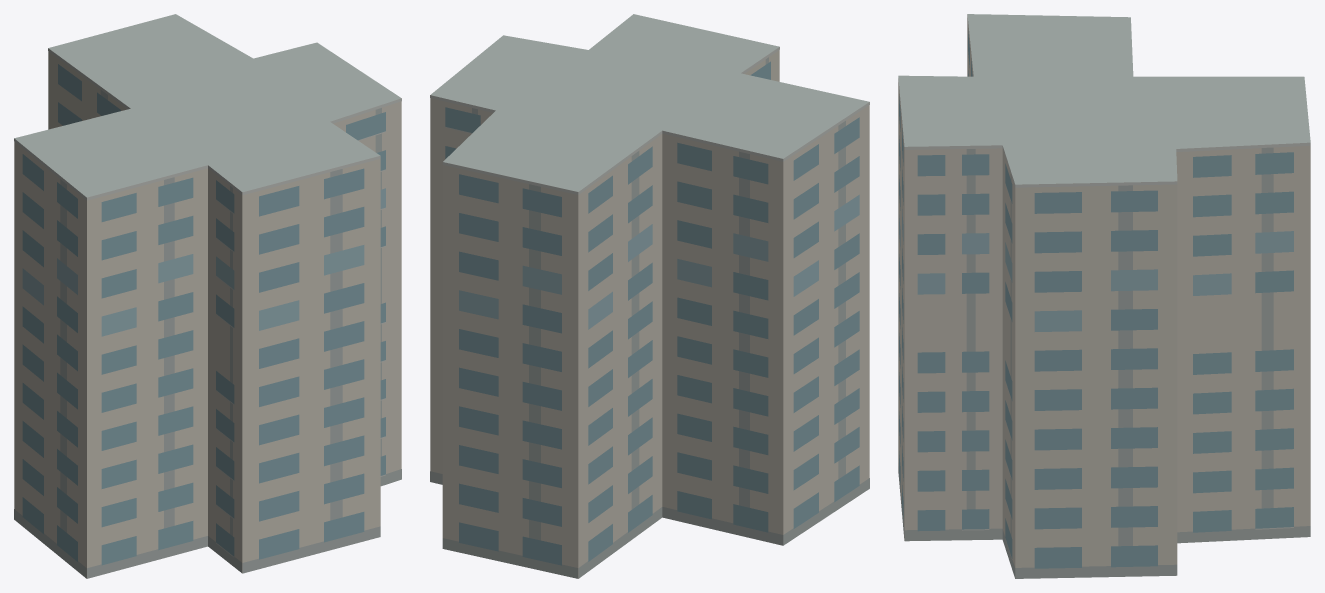
The model's file is residential-b6827ca7-8cbd-4070-8b60-dc90889f956a.glb.
3 views of the same model, side by side, from view 1: azimuth 30°, elevation 25°; view 2: azimuth 150°, elevation 25°; view 3: azimuth 270°, elevation 25° (orthographic). The views are drawn at different scales.
Parts seen in each view (by area): view 1: residential-b6827ca7-8cbd-4070-8b60-dc90889f956a.tmp; view 2: residential-b6827ca7-8cbd-4070-8b60-dc90889f956a.tmp; view 3: residential-b6827ca7-8cbd-4070-8b60-dc90889f956a.tmp.
Part boxes in pixels (x1,y1,x2,y2): residential-b6827ca7-8cbd-4070-8b60-dc90889f956a.tmp: [14, 14, 401, 578]; residential-b6827ca7-8cbd-4070-8b60-dc90889f956a.tmp: [430, 14, 869, 578]; residential-b6827ca7-8cbd-4070-8b60-dc90889f956a.tmp: [898, 14, 1310, 578].
Bounding box in the file's own units: 28.77 × 31 × 29.4.
